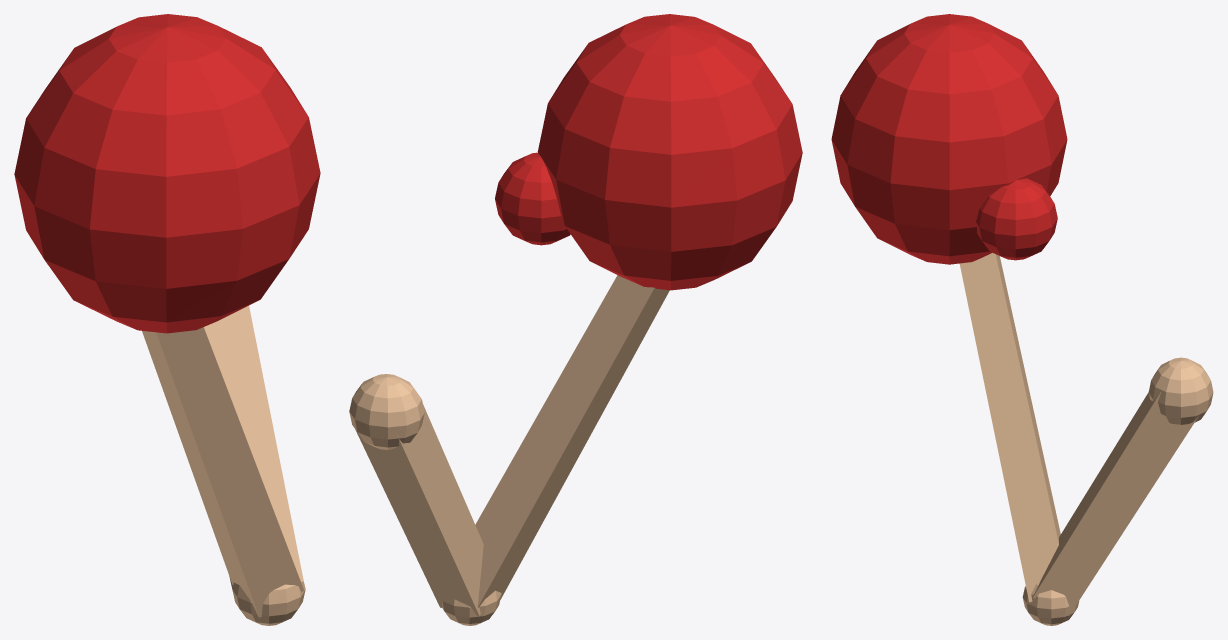
File: boxeador_torpe_left_arm.obj
The picture shows the model from 3 angles, left to right: view 1: azimuth 30°, elevation 25°; view 2: azimuth 150°, elevation 25°; view 3: azimuth 270°, elevation 25°; orthographic projection. The views are drawn at different scales.
Parts seen in each view (by area): view 1: guante_L, antebrazo_L, brazo_L, codo_L; view 2: guante_L, antebrazo_L, brazo_L, pulgar_L, hombro_L, codo_L; view 3: guante_L, antebrazo_L, brazo_L, pulgar_L, hombro_L, codo_L.
Part boxes in pixels (x1,y1,x2,y2): guante_L: (14,14,320,333); antebrazo_L: (142,327,303,617); brazo_L: (204,305,303,588); codo_L: (232,578,305,625); guante_L: (537,14,802,290); antebrazo_L: (475,275,669,607); brazo_L: (355,404,483,615); pulgar_L: (495,152,570,245); hombro_L: (349,374,424,449); codo_L: (442,590,501,625); guante_L: (831,14,1067,264); antebrazo_L: (959,253,1060,602); brazo_L: (1032,392,1198,615); pulgar_L: (976,178,1057,260); hombro_L: (1148,357,1213,425); codo_L: (1022,582,1079,625).
Size of the model in its own units: 0.685 by 1.27 by 0.8248.
